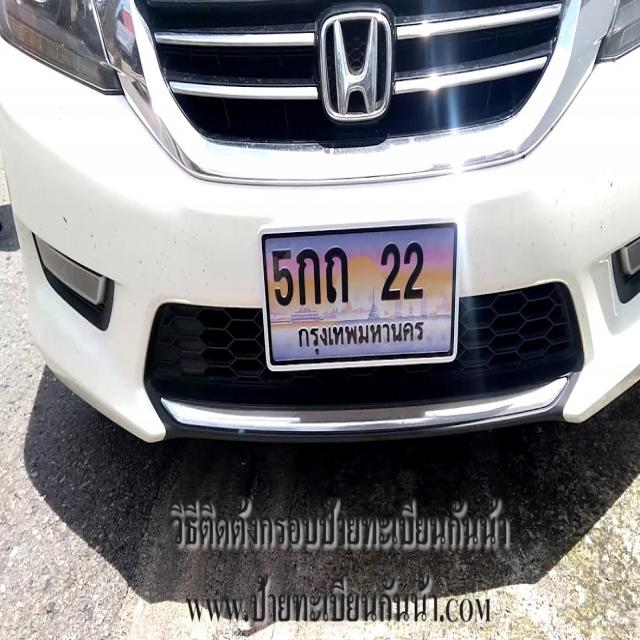license_plate: (253, 208, 470, 383)
